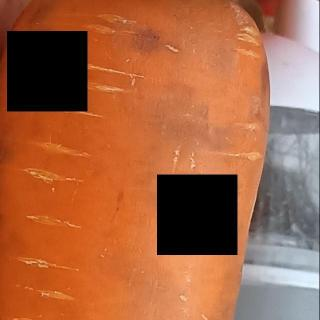carrot: (0, 0, 277, 320)
